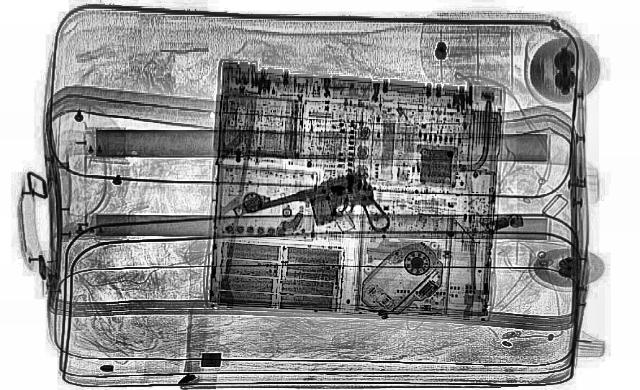Gun: (230, 168, 410, 260)
